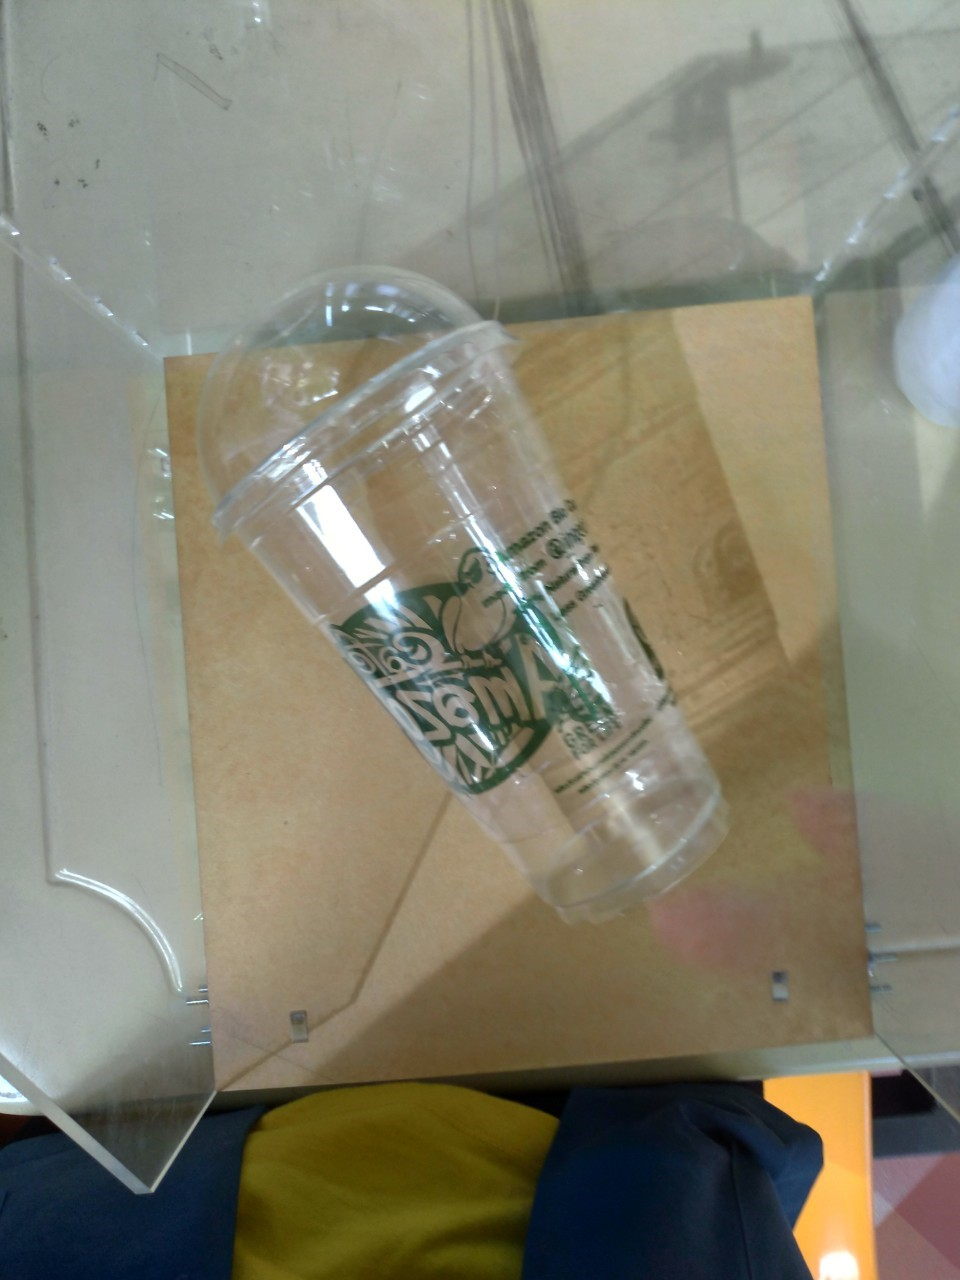PlasticCup: (194, 265, 731, 931)
